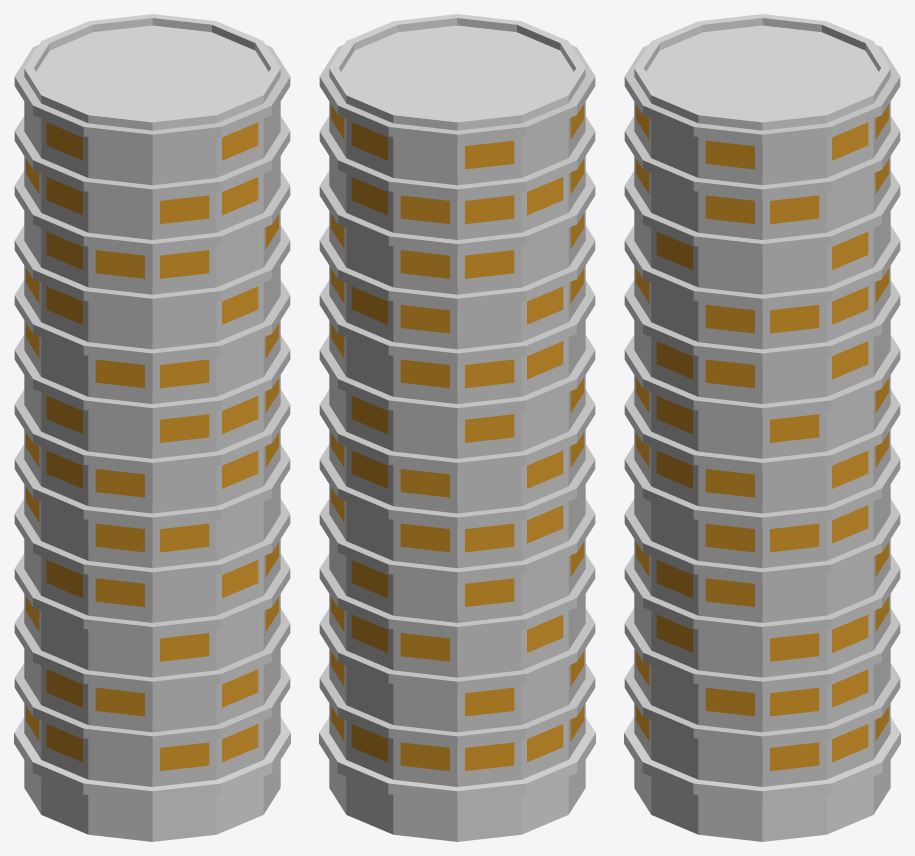
3 views of the same model, side by side, from view 1: azimuth 30°, elevation 25°; view 2: azimuth 150°, elevation 25°; view 3: azimuth 270°, elevation 25° (orthographic).
Parts seen in each view (by area): view 1: rBody.001, rTop.001, rBottom.001; view 2: rBody.001, rTop.001, rBottom.001; view 3: rBody.001, rTop.001, rBottom.001.
Part boxes in pixels (bbox=[...]): rBody.001: bbox=[14, 45, 290, 786]; rTop.001: bbox=[24, 14, 280, 130]; rBottom.001: bbox=[14, 717, 290, 841]; rBody.001: bbox=[319, 45, 595, 786]; rTop.001: bbox=[329, 14, 585, 130]; rBottom.001: bbox=[319, 717, 595, 841]; rBody.001: bbox=[624, 45, 900, 786]; rTop.001: bbox=[634, 14, 890, 130]; rBottom.001: bbox=[624, 717, 900, 841].
Bounding box in the file's own units: 216 × 216 × 619.
